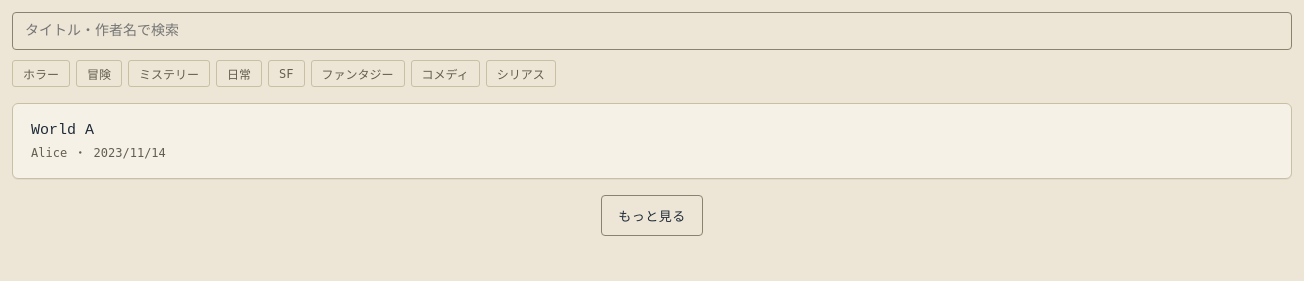
PublicItemList › replaces items (does not append) when a filter changes after a "もっと見る" append
The width and height of the screenshot is (1304, 281).
Check: the button "World A" is shown, box left=31, top=122, right=94, bottom=139
Click the button "もっと見る".
click(652, 216)  # box left=601, top=195, right=703, bottom=236
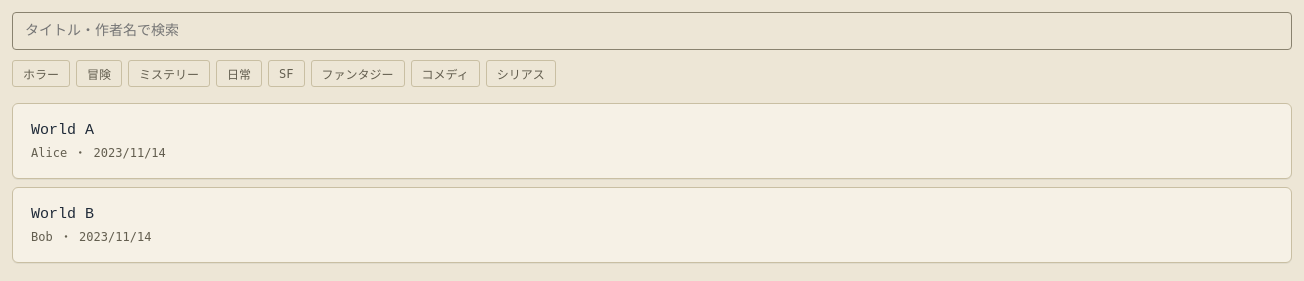
Check: the button "World B" is shown, box left=31, top=206, right=94, bottom=223
Click the button "ホラー".
click(41, 74)  # box left=12, top=60, right=70, bottom=87
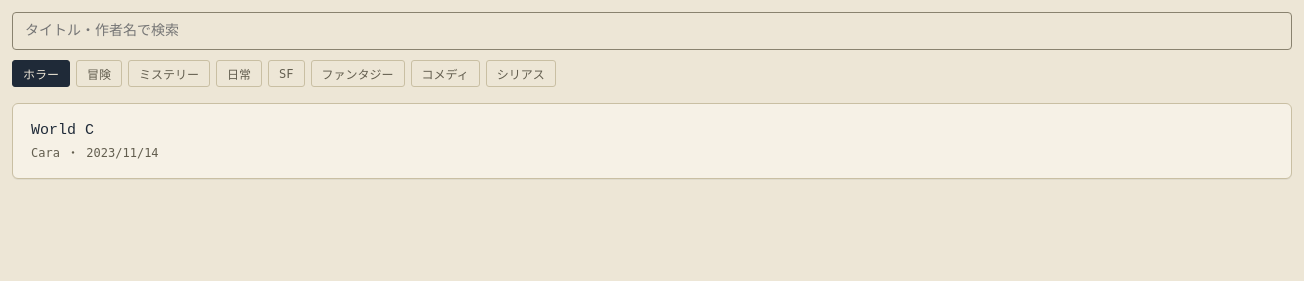
Check: the button "World C" is shown, box left=31, top=122, right=94, bottom=139
Check: the button "World A" is gone
Check: the button "World B" is gone
